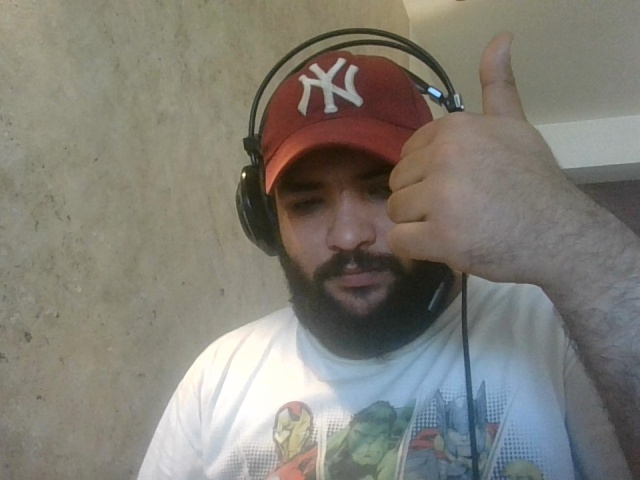yes: (384, 29, 579, 305)
